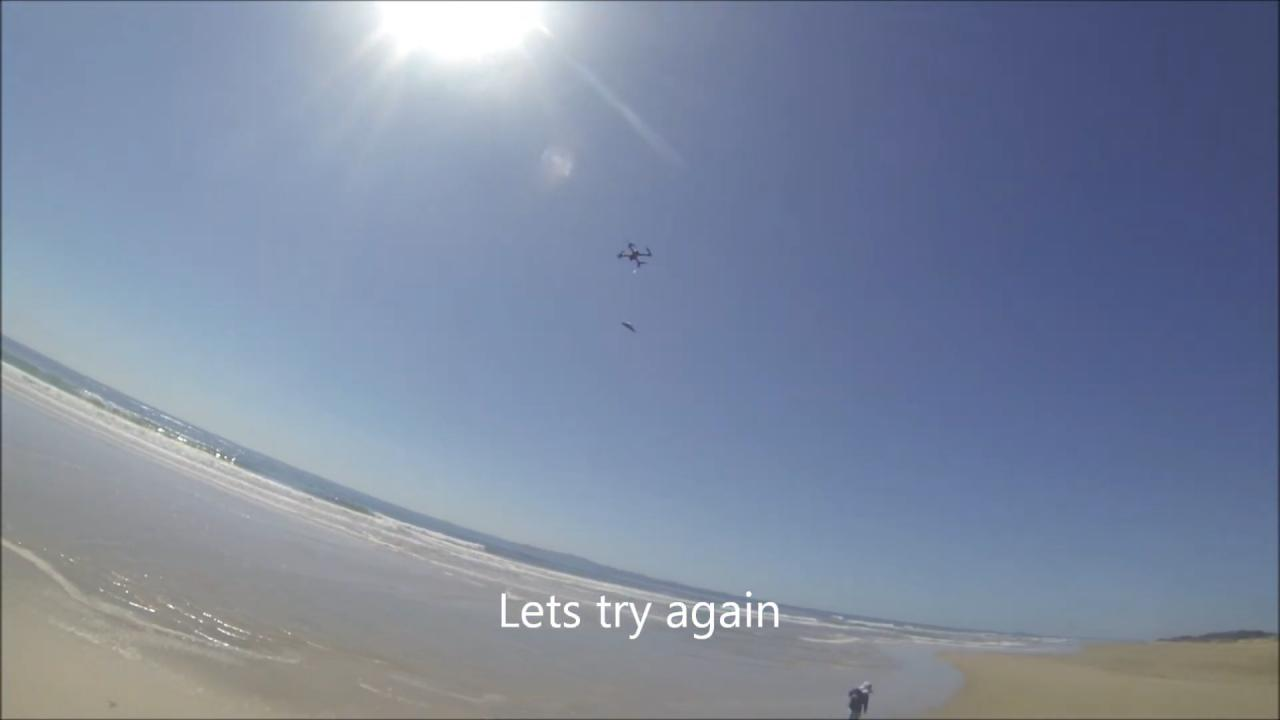Drone: (609, 232, 660, 282)
